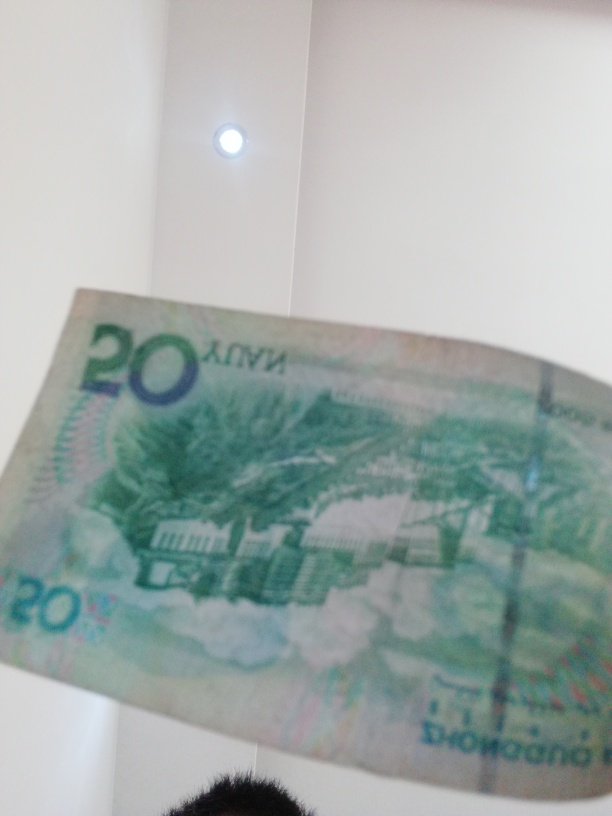rmb: (7, 286, 612, 806)
